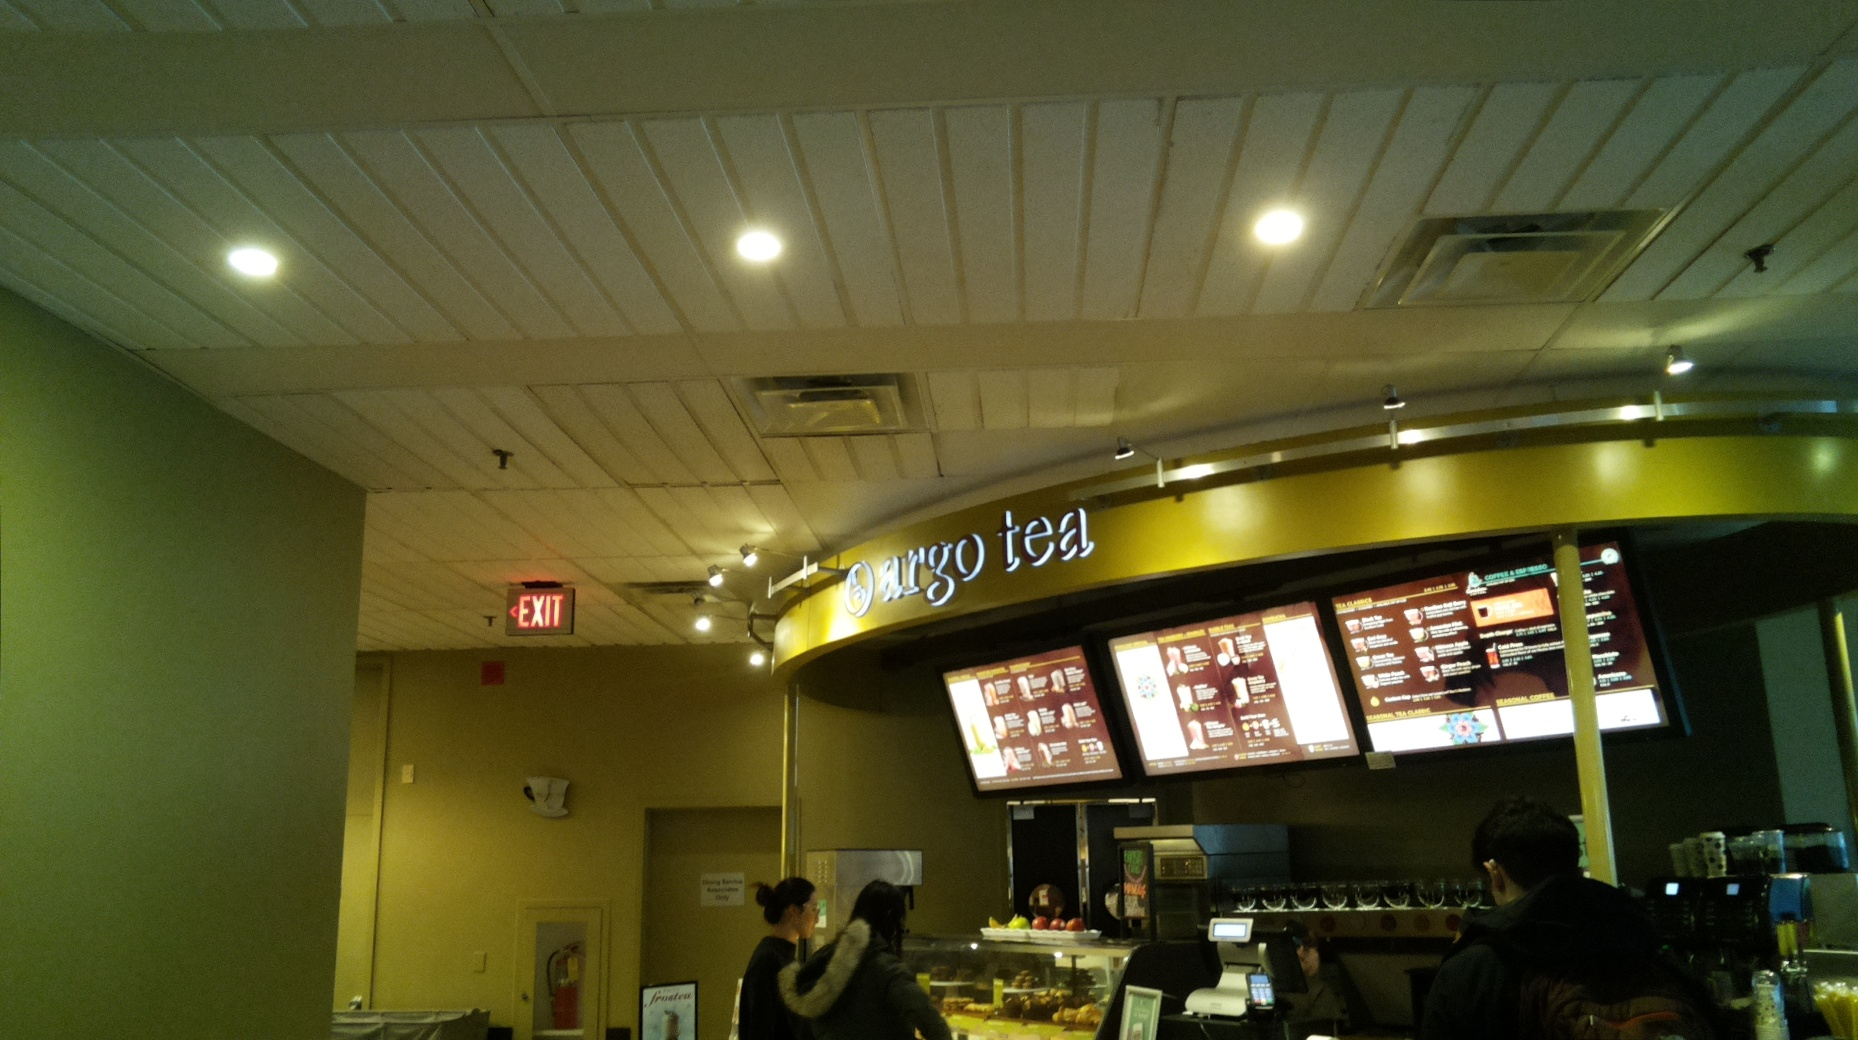exit sign: (502, 582, 581, 641)
